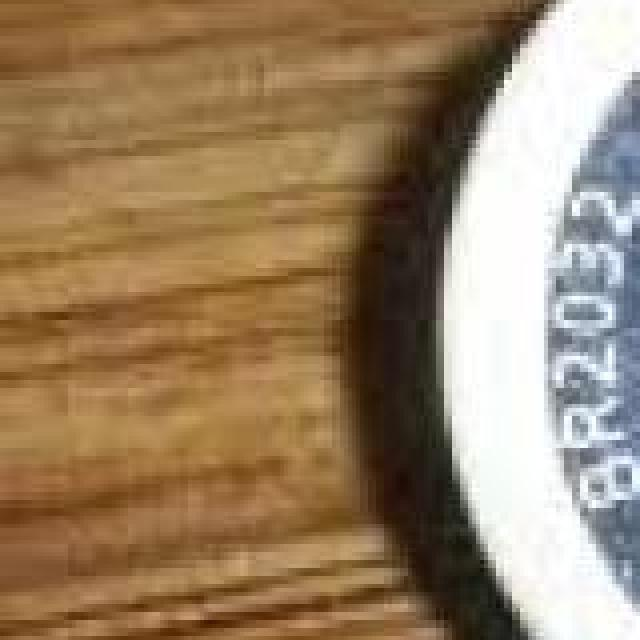battery: (348, 0, 640, 640)
